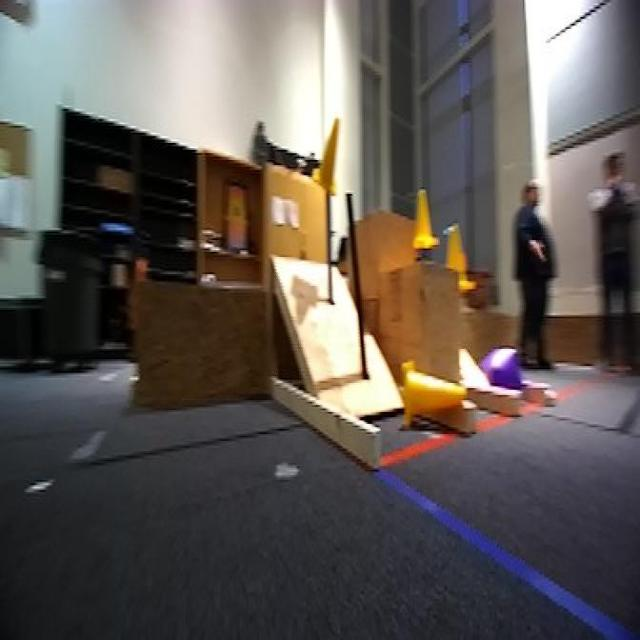frc_cone: (402, 359, 467, 432), (311, 121, 344, 201), (445, 218, 474, 289), (412, 189, 439, 250)
frc_cube: (484, 351, 526, 392)
